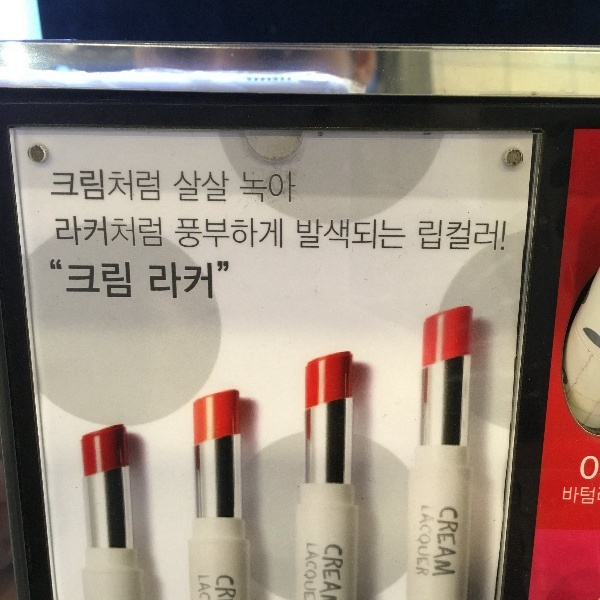text: (421, 504, 432, 580), (305, 545, 320, 600), (449, 506, 459, 579), (323, 543, 336, 599), (49, 258, 64, 300), (65, 258, 80, 300), (81, 258, 96, 300), (97, 258, 112, 300), (113, 258, 128, 300), (161, 262, 176, 303), (177, 262, 192, 303), (193, 262, 208, 303), (209, 262, 224, 303), (440, 506, 448, 579), (145, 170, 161, 202), (148, 262, 160, 303), (65, 170, 80, 202), (81, 170, 96, 202), (97, 170, 112, 202), (113, 170, 128, 202), (129, 170, 144, 202), (433, 221, 448, 253), (449, 221, 464, 253), (465, 221, 480, 253), (481, 221, 496, 253), (241, 173, 256, 204), (257, 173, 272, 204), (273, 173, 288, 204), (65, 217, 80, 248), (81, 217, 96, 248), (97, 217, 112, 248), (113, 217, 128, 248), (129, 217, 144, 248), (145, 217, 160, 248), (177, 220, 192, 251), (193, 220, 208, 251), (209, 220, 224, 251), (225, 220, 240, 251), (241, 220, 256, 251), (257, 220, 272, 251), (177, 173, 192, 203), (193, 173, 208, 203), (209, 173, 224, 203), (305, 221, 320, 251), (321, 221, 336, 251), (337, 221, 352, 251), (353, 221, 368, 251), (369, 221, 384, 251), (385, 221, 400, 251), (50, 170, 64, 202), (419, 221, 432, 253), (337, 543, 344, 599), (497, 221, 508, 253), (577, 486, 592, 507), (196, 574, 208, 600), (54, 217, 64, 248), (273, 220, 283, 251), (581, 455, 592, 482), (562, 486, 576, 507), (225, 575, 236, 600), (214, 575, 224, 600), (289, 173, 297, 204), (433, 504, 436, 580), (297, 221, 304, 251), (593, 455, 600, 482), (401, 221, 407, 251), (129, 258, 133, 300), (225, 262, 229, 303), (225, 173, 230, 203), (593, 486, 600, 507), (172, 173, 176, 203), (173, 220, 176, 251), (161, 217, 163, 248), (209, 574, 211, 600), (47, 258, 48, 300), (239, 173, 240, 204)
